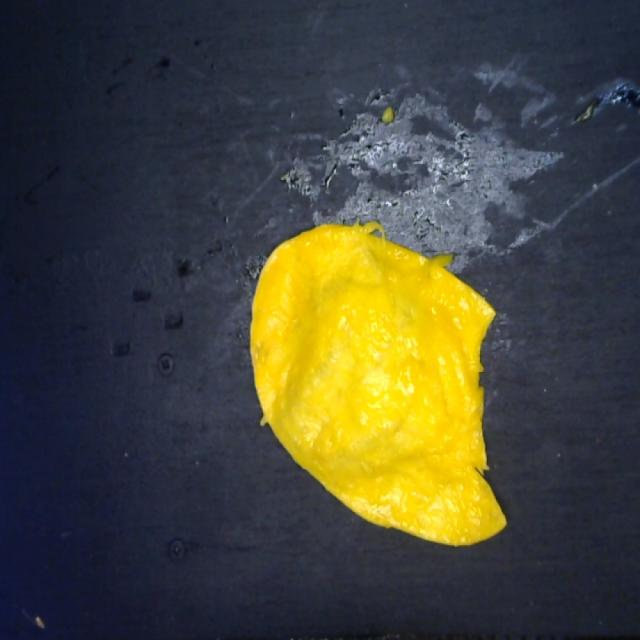biodegradable: (247, 219, 508, 556)
